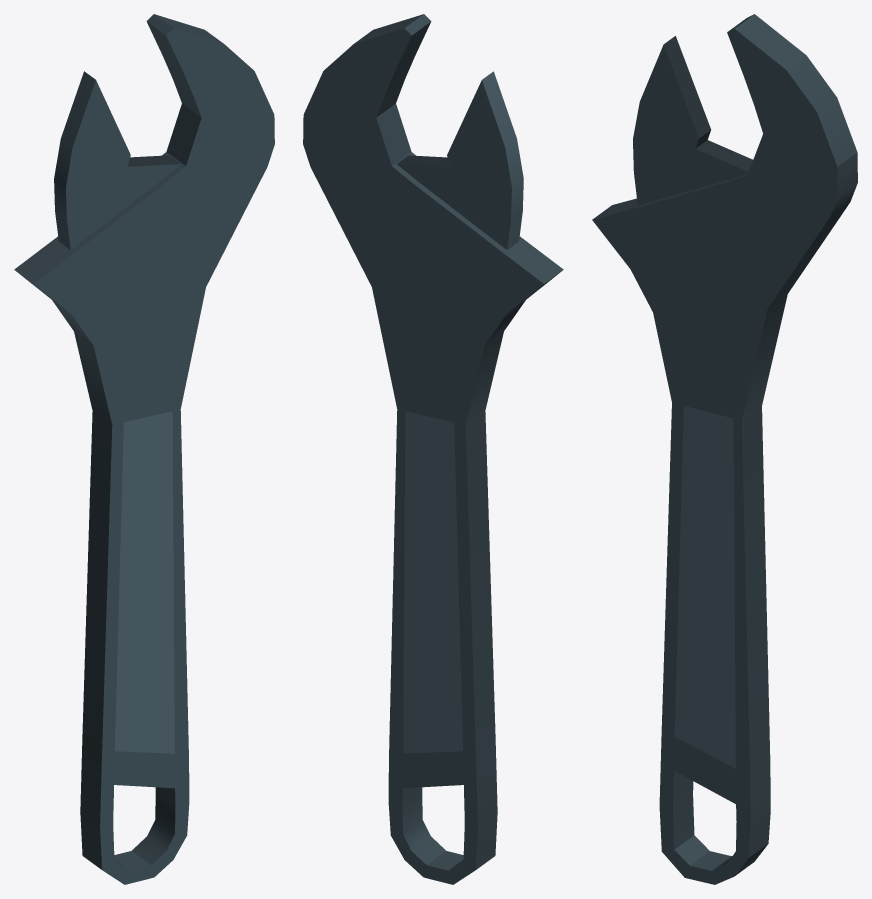
Rendered from cle.fbx.
3 views of the same model, side by side, from view 1: azimuth 30°, elevation 25°; view 2: azimuth 150°, elevation 25°; view 3: azimuth 330°, elevation 25° (orthographic).
Parts seen in each view (by area): view 1: cle; view 2: cle; view 3: cle.
Boxes of the visible parts, bbox=[...] form: cle: bbox=[14, 14, 274, 884]; cle: bbox=[303, 14, 563, 884]; cle: bbox=[592, 14, 857, 884].
Bounding box in the file's own units: 30.33 × 102 × 4.29.
